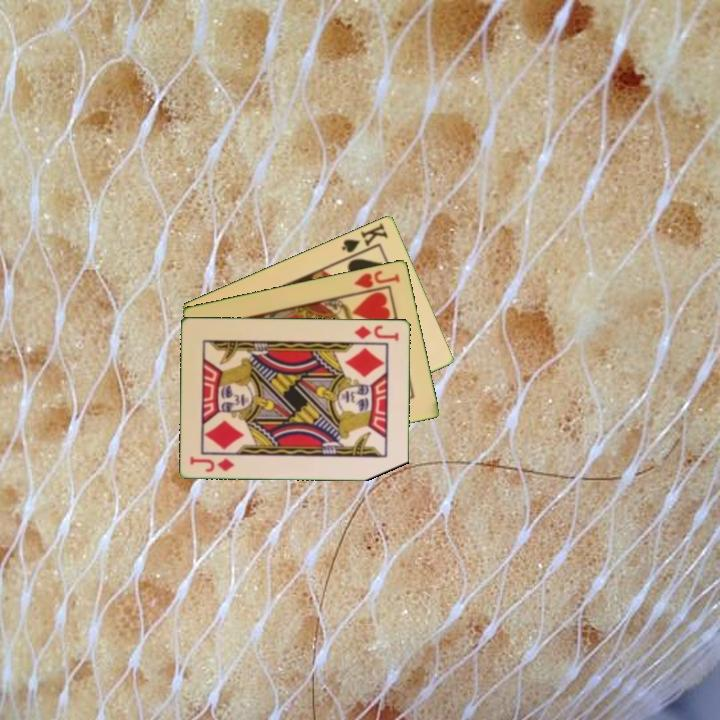Jd: (187, 452, 237, 475), (351, 321, 401, 343)
Jh: (351, 266, 403, 291)
Ks: (338, 219, 391, 255)
